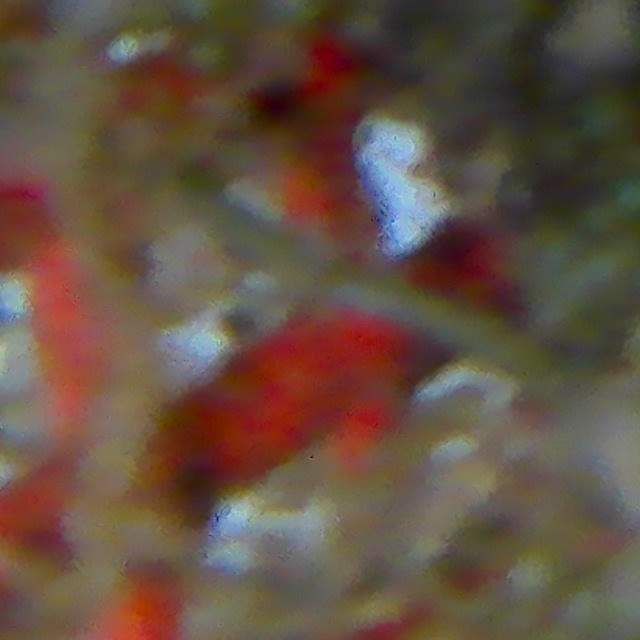SeaGrape: (246, 27, 317, 95), (575, 87, 640, 150)
